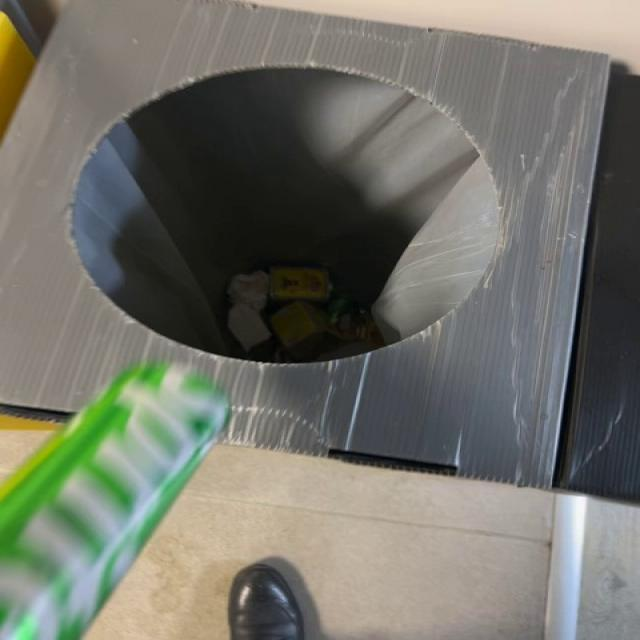Bin: (1, 1, 609, 488)
Metal: (1, 364, 228, 640)
